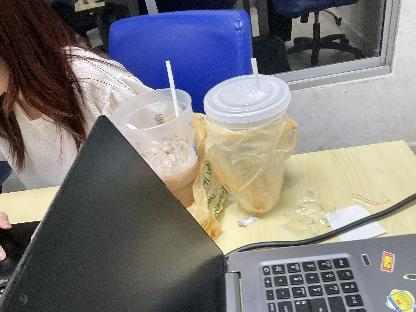Others: (112, 84, 202, 210), (202, 115, 298, 214), (158, 110, 228, 238), (202, 70, 292, 130), (326, 200, 388, 242), (291, 184, 337, 237), (126, 121, 168, 155), (165, 60, 183, 124), (249, 57, 263, 95), (236, 212, 264, 230)
